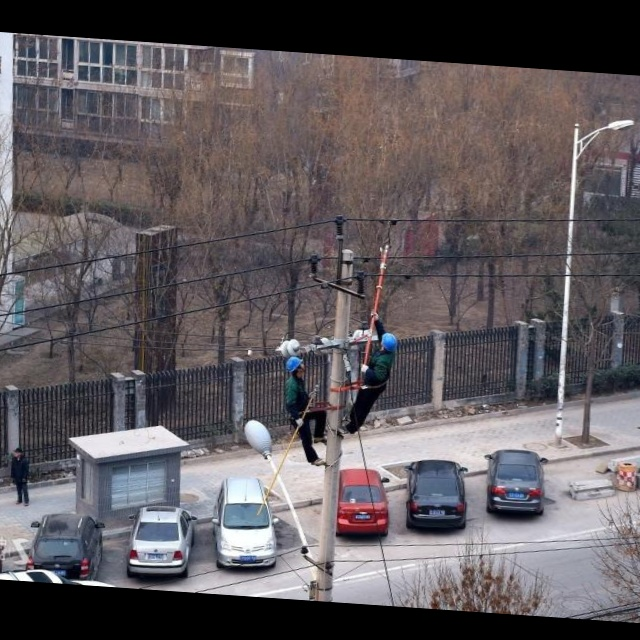Con_Casco: (378, 331, 399, 357), (284, 354, 304, 379)
